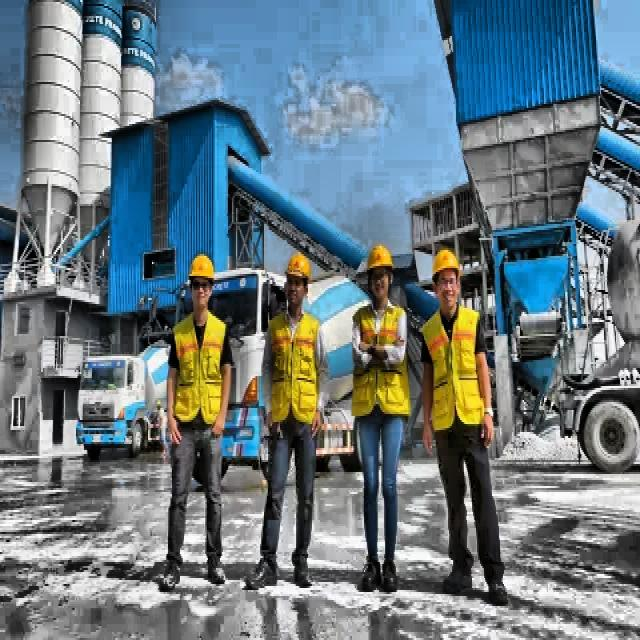safety_helmet: (360, 238, 400, 298), (428, 243, 468, 293), (269, 255, 320, 293), (188, 249, 219, 288)
safety_jacket: (424, 306, 492, 446), (353, 302, 418, 437), (264, 312, 331, 434), (170, 306, 231, 435)
